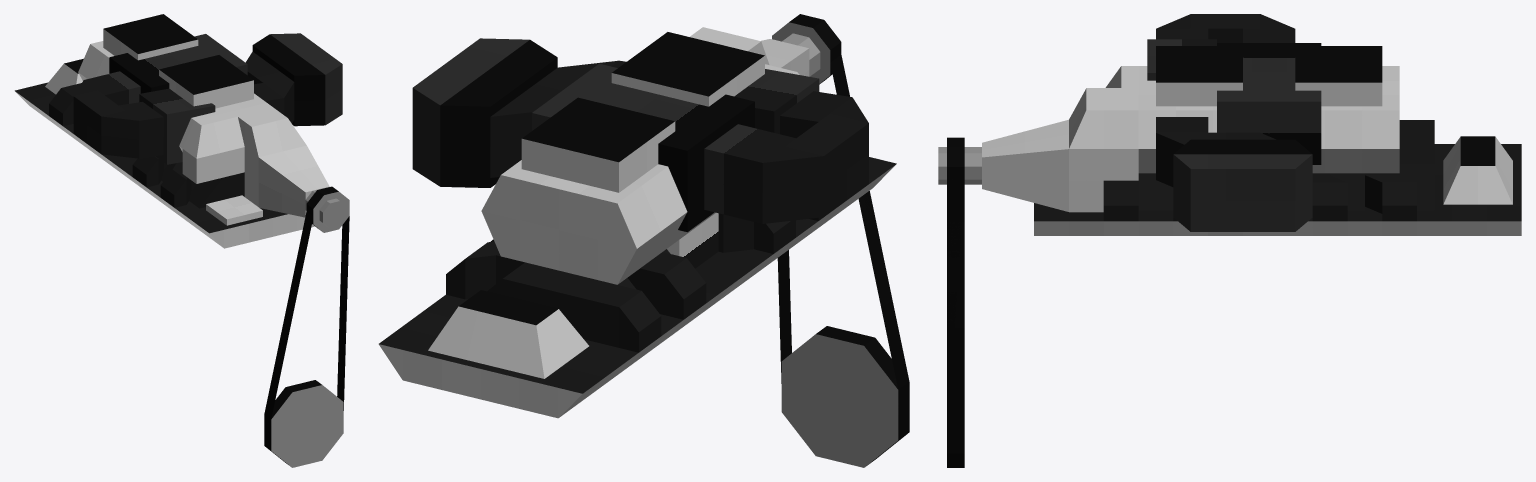
The model's file is intakemanifold_turbofire_exchange.obj.
3 renders of one model, left to right at view 1: azimuth 30°, elevation 25°; view 2: azimuth 150°, elevation 25°; view 3: azimuth 270°, elevation 25°, orthographic. The views are drawn at different scales.
Visible parts, largest first — view 1: supercharger, intake, cuboid, cs_pulley, belt, sc_pulley; view 2: intake, cuboid, supercharger, cs_pulley, belt, sc_pulley; view 3: supercharger, intake, cuboid, belt, sc_pulley, cs_pulley.
Part boxes in pixels (x1,y1,x2,y2): supercharger: [78, 14, 329, 217]; intake: [73, 33, 342, 164]; cuboid: [14, 58, 314, 248]; cs_pulley: [264, 380, 343, 467]; belt: [264, 212, 349, 434]; sc_pulley: [305, 186, 349, 232]; intake: [412, 38, 868, 232]; cuboid: [378, 157, 896, 418]; supercharger: [481, 27, 809, 284]; cs_pulley: [781, 326, 909, 467]; belt: [777, 55, 909, 414]; sc_pulley: [772, 14, 841, 84]; supercharger: [982, 46, 1399, 212]; intake: [1147, 14, 1321, 231]; cuboid: [1034, 120, 1521, 235]; belt: [947, 175, 964, 433]; sc_pulley: [938, 137, 981, 186]; cs_pulley: [947, 433, 964, 467].
Bounding box in the file's own units: 0.625 × 0.7812 × 1.05.
